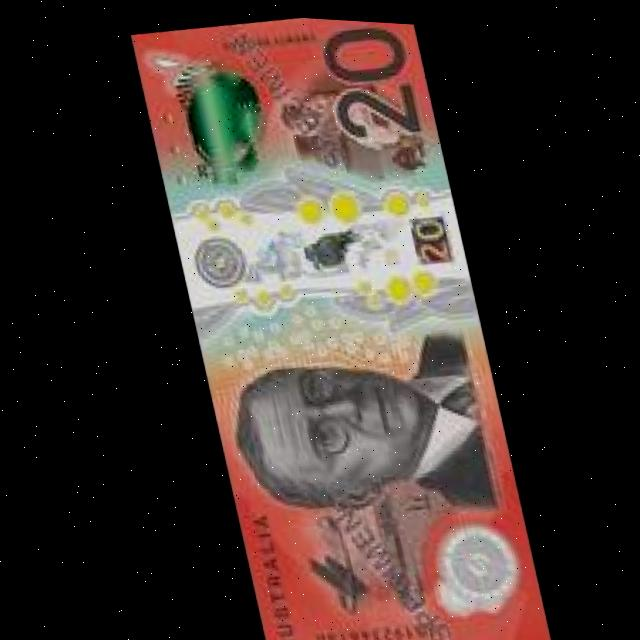banknote: (124, 6, 548, 640)
